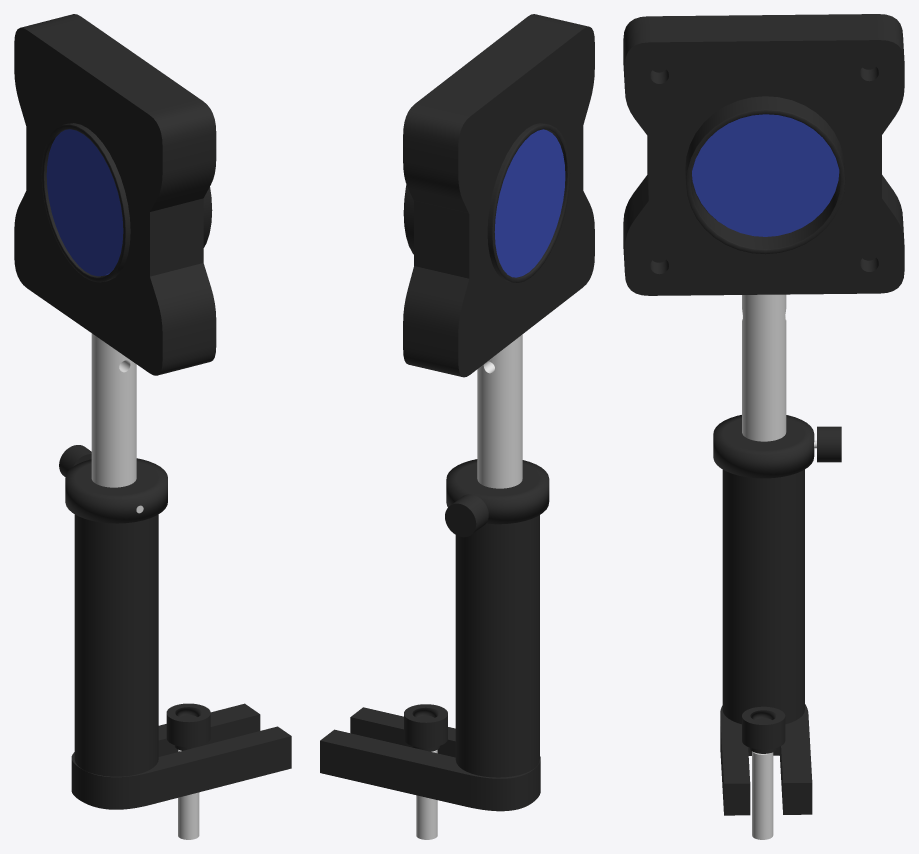
File: 衰减镜1.fbx
The picture shows the model from 3 angles, left to right: view 1: azimuth 30°, elevation 25°; view 2: azimuth 150°, elevation 25°; view 3: azimuth 270°, elevation 25°; orthographic projection.
Visible parts, largest first — view 1: Box891, Cylinder3358, Box892, Cylinder3363, Cylinder3361, Cylinder3364, Cylinder3366, Cylinder3365, Cylinder3359; view 2: Box891, Cylinder3358, Box892, Cylinder3363, Cylinder3361, Cylinder3364, Cylinder3366, Cylinder3359, Cylinder3365, Cylinder3362; view 3: Box891, Cylinder3358, Cylinder3363, Cylinder3361, Cylinder3362, Box892, Cylinder3365, Cylinder3366, Cylinder3359.
Boxes of the visible parts, <box> form: Box891: <box>14,14,216,375</box>; Cylinder3358: <box>65,458,167,776</box>; Box892: <box>71,703,291,809</box>; Cylinder3363: <box>46,129,123,276</box>; Cylinder3361: <box>91,333,136,487</box>; Cylinder3364: <box>41,123,130,282</box>; Cylinder3366: <box>166,703,210,750</box>; Cylinder3365: <box>178,749,199,839</box>; Cylinder3359: <box>59,445,91,476</box>; Box891: <box>403,14,594,377</box>; Cylinder3358: <box>446,459,549,777</box>; Box892: <box>320,707,540,811</box>; Cylinder3363: <box>494,129,565,277</box>; Cylinder3361: <box>477,334,522,488</box>; Cylinder3364: <box>487,123,570,282</box>; Cylinder3366: <box>404,704,447,751</box>; Cylinder3359: <box>445,494,488,537</box>; Cylinder3365: <box>416,750,437,839</box>; Cylinder3362: <box>403,184,413,254</box>; Box891: <box>623,14,904,295</box>; Cylinder3358: <box>713,415,814,724</box>; Cylinder3363: <box>692,114,839,236</box>; Cylinder3361: <box>742,294,786,441</box>; Cylinder3362: <box>685,96,845,254</box>; Box892: <box>720,704,812,815</box>; Cylinder3365: <box>752,751,773,839</box>; Cylinder3366: <box>742,706,785,753</box>; Cylinder3359: <box>817,426,841,462</box>.
Bounding box in the file's own units: 11.62 × 43.85 × 14.46.
